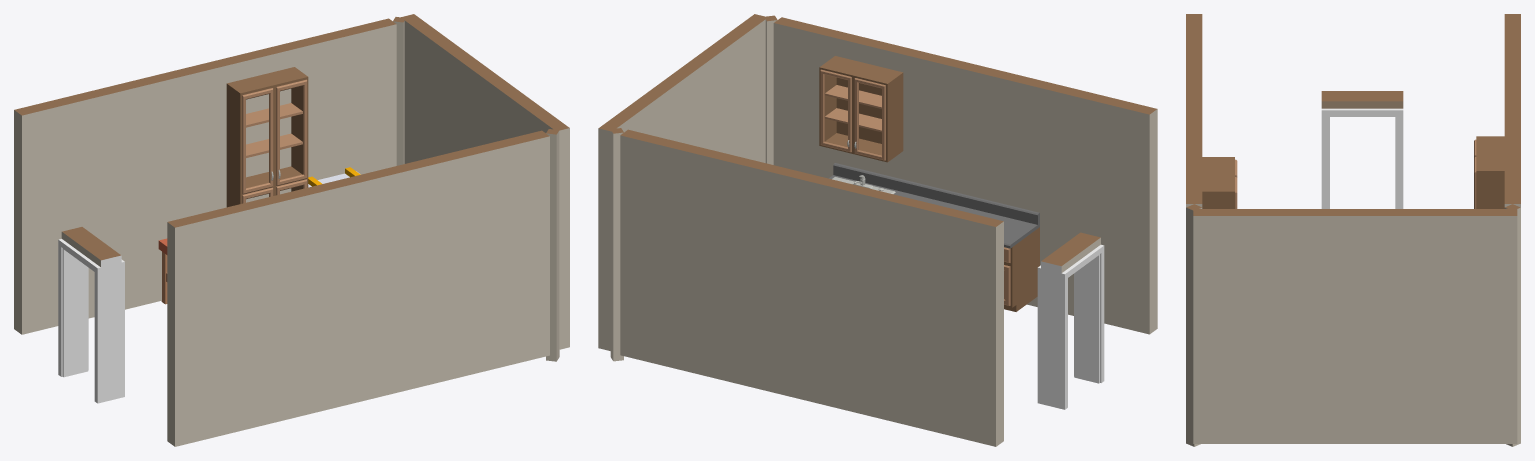
Rendered from darkroom_placeholder.glb.
The picture shows the model from 3 angles, left to right: view 1: azimuth 30°, elevation 25°; view 2: azimuth 150°, elevation 25°; view 3: azimuth 270°, elevation 25°; orthographic projection. The views are drawn at different scales.
Parts seen in each view (by area): view 1: mergedBlocks(Clone); view 2: mergedBlocks(Clone); view 3: mergedBlocks(Clone).
Part boxes in pixels (x1=…): mergedBlocks(Clone): x1=14, y1=14, x2=569, y2=446; mergedBlocks(Clone): x1=598, y1=14, x2=1157, y2=446; mergedBlocks(Clone): x1=1186, y1=14, x2=1520, y2=446.
Size of the model in its own units: 6.03 by 3.19 by 4.1.
